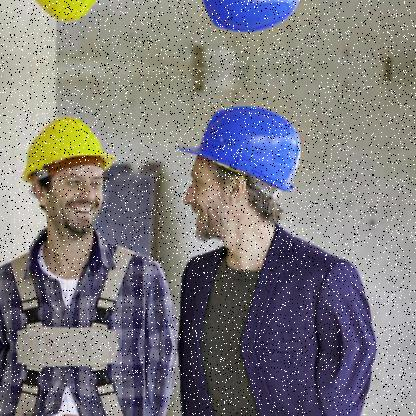Helmet: (176, 97, 302, 245), (22, 109, 121, 237)
